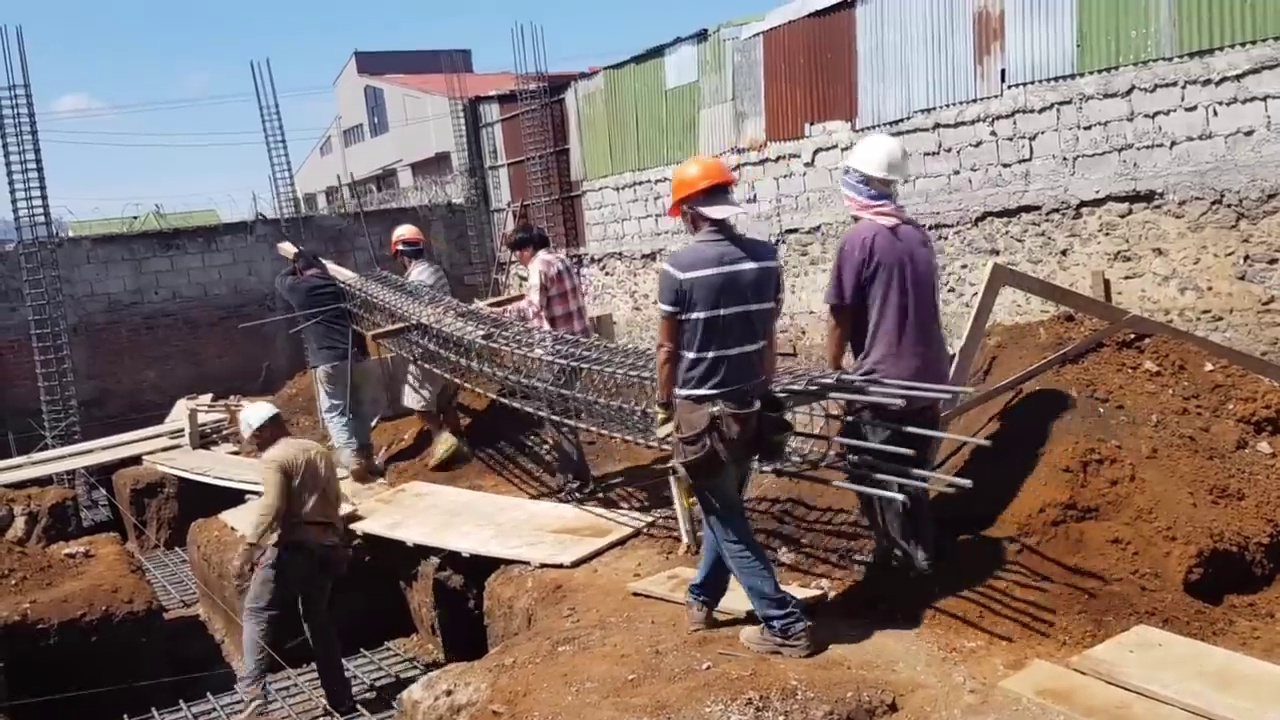helmet: (663, 159, 735, 216), (844, 130, 915, 187), (237, 399, 281, 444), (388, 225, 427, 260)
helmet-off: (499, 216, 547, 274), (290, 249, 319, 278)
helmet-on: (845, 130, 915, 224), (662, 158, 739, 241), (233, 403, 294, 455), (387, 224, 431, 273)
person: (654, 153, 805, 644), (822, 131, 965, 609), (223, 387, 353, 699), (496, 215, 601, 497), (272, 240, 380, 476), (386, 225, 468, 470)
